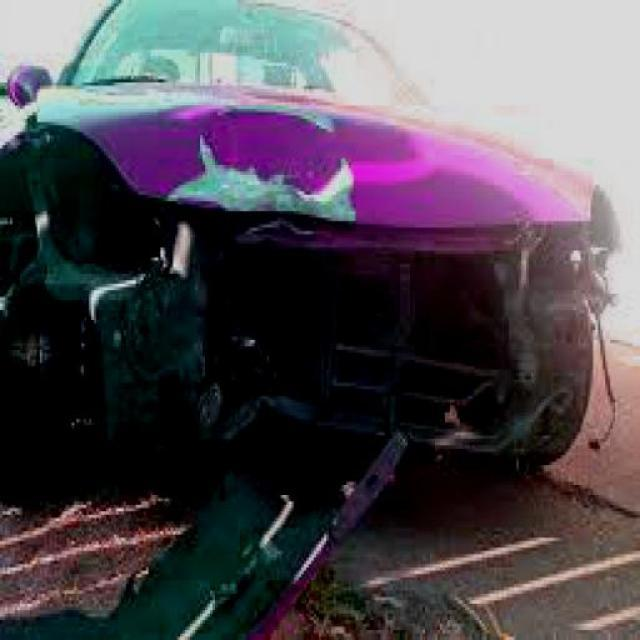Car-Damage: (12, 86, 626, 636)
